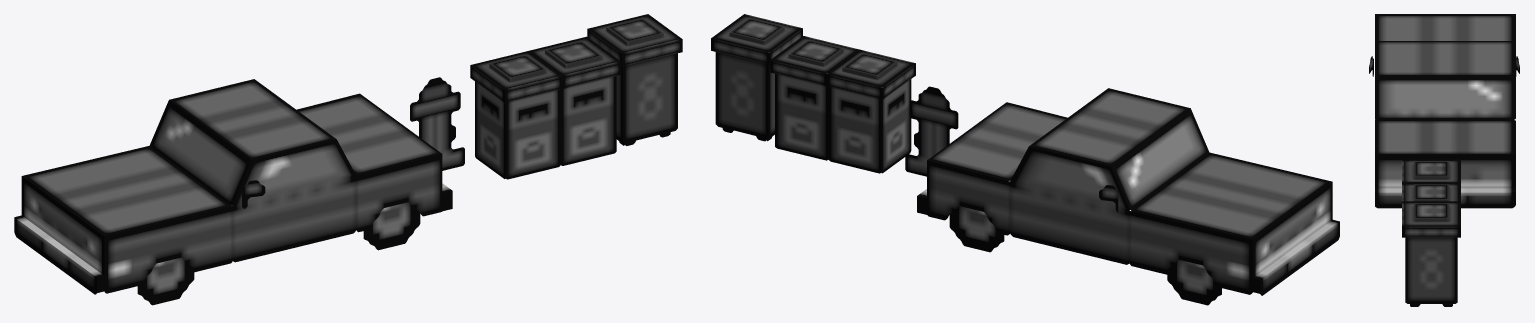
The model's file is city_02.fbx.
The picture shows the model from 3 angles, left to right: view 1: azimuth 30°, elevation 25°; view 2: azimuth 150°, elevation 25°; view 3: azimuth 270°, elevation 25°; orthographic projection. The views are drawn at different scales.
Parts seen in each view (by area): view 1: 立方体.017, 立方体.018, 立方体.016, 平面.015; view 2: 立方体.017, 立方体.018, 立方体.016, 平面.015; view 3: 立方体.017, 立方体.016, 立方体.018.
Part boxes in pixels (left/top/right/bottom): 立方体.017: left=14, top=79, right=452, bottom=305; 立方体.018: left=470, top=36, right=621, bottom=179; 立方体.016: left=587, top=14, right=682, bottom=145; 平面.015: left=410, top=77, right=464, bottom=170; 立方体.017: left=917, top=88, right=1339, bottom=305; 立方体.018: left=770, top=36, right=915, bottom=173; 立方体.016: left=711, top=14, right=802, bottom=141; 平面.015: left=905, top=86, right=958, bottom=176; 立方体.017: left=1369, top=14, right=1519, bottom=208; 立方体.016: left=1402, top=201, right=1460, bottom=306; 立方体.018: left=1402, top=159, right=1460, bottom=201.
Bounding box in the file's own units: 268 × 54.1 × 69.07.
